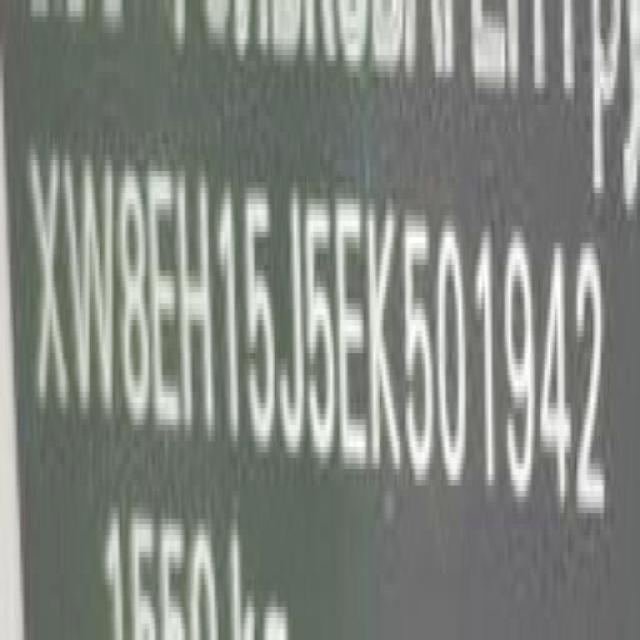0: (438, 220, 468, 493)
1: (216, 174, 243, 456), (475, 224, 497, 501)
2: (576, 238, 606, 526)
4: (542, 235, 574, 520)
5: (404, 204, 435, 492), (248, 180, 278, 461), (305, 190, 335, 468)
8: (118, 154, 150, 432)
9: (505, 234, 538, 509)
E: (338, 187, 366, 479), (149, 158, 177, 442)
H: (180, 162, 216, 446)
J: (278, 185, 306, 466)
K: (369, 198, 400, 490)
W: (68, 144, 118, 436)
X: (32, 133, 69, 432)
